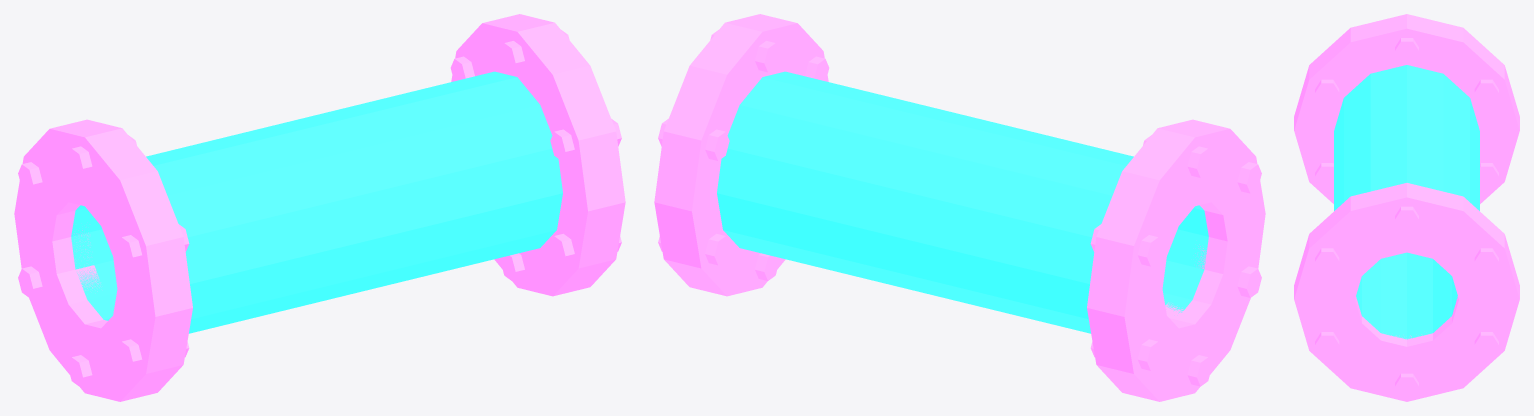
The model's file is item_pipe_neon.fbx.
The picture shows the model from 3 angles, left to right: view 1: azimuth 30°, elevation 25°; view 2: azimuth 150°, elevation 25°; view 3: azimuth 270°, elevation 25°; orthographic projection. The views are drawn at different scales.
Visible parts, largest first — view 1: item_pipe_neon; view 2: item_pipe_neon; view 3: item_pipe_neon.
Boxes of the visible parts, left/top/right/bottom form: item_pipe_neon: left=14, top=14, right=625, bottom=401; item_pipe_neon: left=654, top=14, right=1265, bottom=401; item_pipe_neon: left=1294, top=14, right=1519, bottom=401.
Size of the model in its own units: 2.6 by 1.3 by 1.3.
